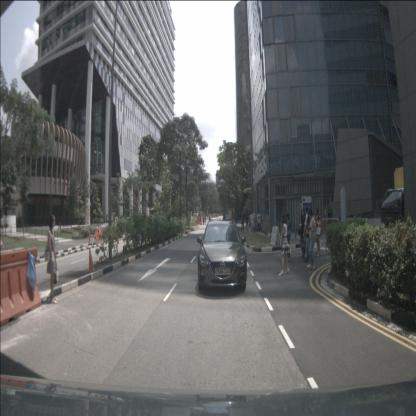barrier: (0, 247, 42, 326), (195, 219, 200, 224)
cone: (88, 248, 96, 272), (89, 234, 92, 244)
